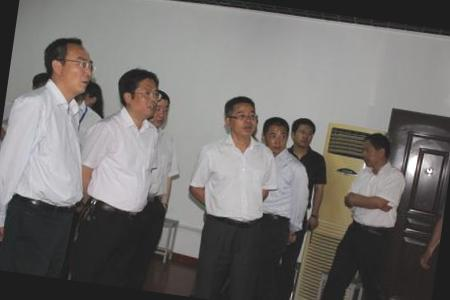no_helmet: (38, 31, 100, 98), (112, 62, 163, 122), (216, 91, 262, 142), (357, 129, 395, 170), (258, 112, 294, 155), (286, 113, 320, 153), (146, 87, 172, 127)
